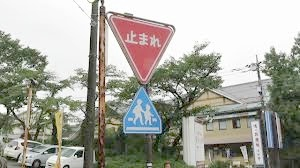Regulatory_sign_triangle: (107, 9, 182, 100)
